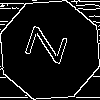Z: (25, 25, 77, 68)
